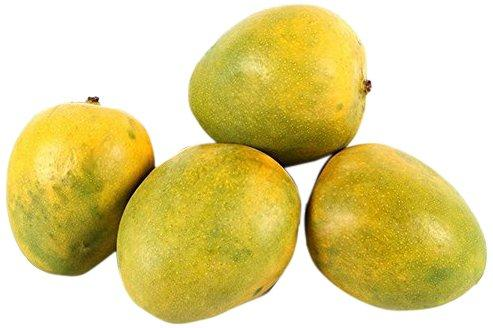xoai: (115, 141, 302, 323), (305, 144, 486, 311), (189, 3, 372, 156)
